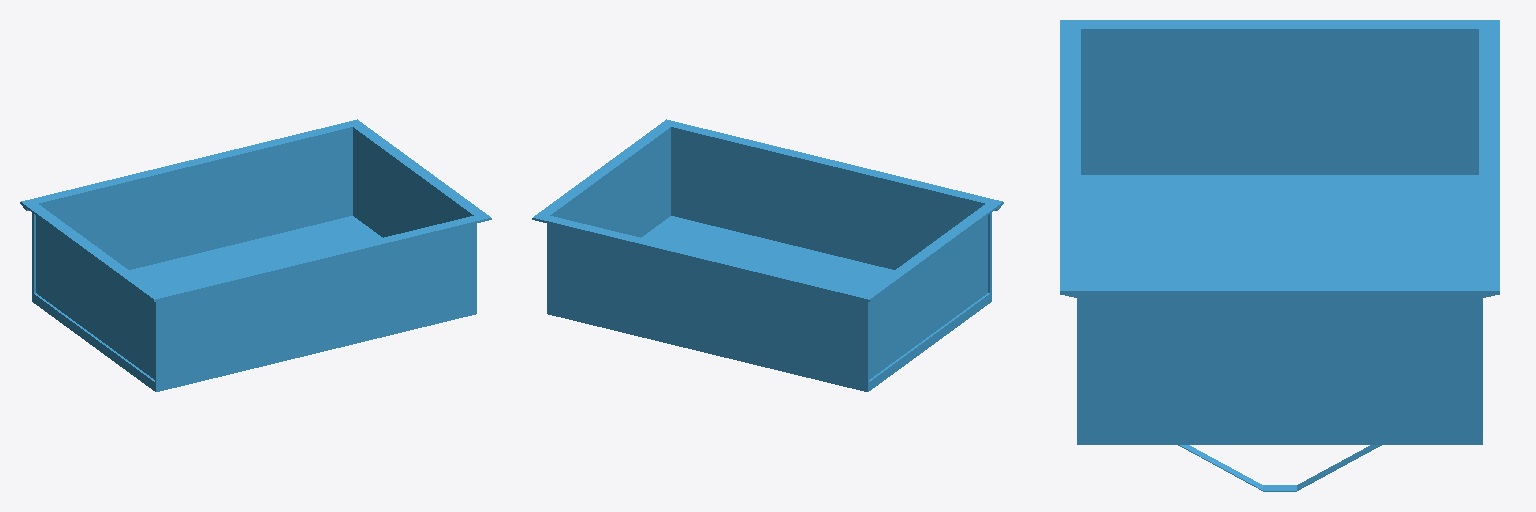
robot.urdf — partnet_e60bf49d6449cf37c5924a1a5d3043b0:
<?xml version="1.0" ?>
<robot name="partnet_e60bf49d6449cf37c5924a1a5d3043b0">
	<link name="base"/>
	<link name="link_2">
		<visual name="base_body-6">
			<origin xyz="0 0 0"/>
			<geometry>
				<mesh filename="textured_objs/original-22.obj"/>
			</geometry>
		</visual>
		<visual name="base_body-6">
			<origin xyz="0 0 0"/>
			<geometry>
				<mesh filename="textured_objs/original-3.obj"/>
			</geometry>
		</visual>

		<collision>
			<origin xyz="0 0 0"/>
			<geometry>
				<mesh filename="textured_objs/original-22-left.obj"/>
			</geometry>
		</collision>
		<collision>
			<origin xyz="0 0 0"/>
			<geometry>
				<mesh filename="textured_objs/original-22-right.obj"/>
			</geometry>
		</collision>
		<collision>
			<origin xyz="0 0 0"/>
			<geometry>
				<mesh filename="textured_objs/original-22-back.obj"/>
			</geometry>
		</collision>
		<collision>
			<origin xyz="0 0 0"/>
			<geometry>
				<mesh filename="textured_objs/original-22-bottom.obj"/>
			</geometry>
		</collision>

		<collision>
			<origin xyz="0 0 0"/>
			<geometry>
				<mesh filename="textured_objs/original-3.obj"/>
			</geometry>
		</collision>
	</link>
	<joint name="joint_2" type="fixed">
		<origin rpy="1.570796326794897 0 -1.570796326794897" xyz="0 0 0"/>
		<child link="link_2"/>
		<parent link="base"/>
	</joint>

	<link name="tray_bottom">
		<visual name='tray_b'>
			<origin xyz="0 0 0"/>
			<geometry>
				<mesh filename="textured_objs/original-22-bottom-visual.obj"/>
			</geometry>
		</visual>
		<collision>
			<origin xyz="0 0 0"/>
			<geometry>
				<mesh filename="textured_objs/original-22-bottom.obj"/>
			</geometry>
		</collision>
	</link>
	<joint name="joint_0" type="fixed">
		<origin xyz="0 0 0"/>
		<child link="tray_bottom"/>
		<parent link="link_2"/>
	</joint>
</robot>

--- Facts derived from the render (not from the file) ---
The picture shows the robot from 3 angles, left to right: view 1: azimuth 30°, elevation 25°; view 2: azimuth 150°, elevation 25°; view 3: azimuth 270°, elevation 25°; orthographic projection.
Robot: partnet_e60bf49d6449cf37c5924a1a5d3043b0 — 3 links, 2 joints (2 fixed); root link base; default pose: all joints at 0.
Visible links, largest first — view 1: link_2; view 2: link_2; view 3: link_2.
Link boxes in pixels (box(x1,y1,x2,y2)): link_2: box(20, 119, 491, 391); link_2: box(532, 119, 1003, 391); link_2: box(1060, 20, 1499, 491).
Size in the robot's own frame: 1.18 by 0.812 by 0.4235 metres.
Meshes: 3 distinct files referenced, 3 mesh visuals loaded (3 OBJ).
